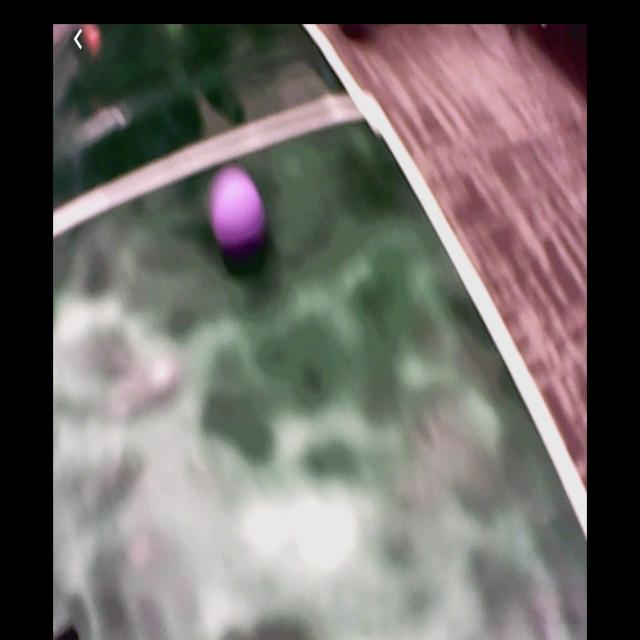ball: (209, 167, 263, 251)
